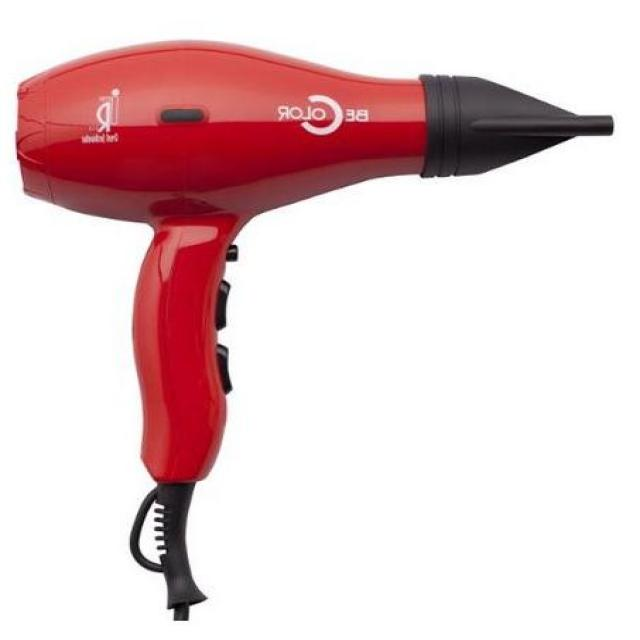dryer: (14, 36, 616, 609)
